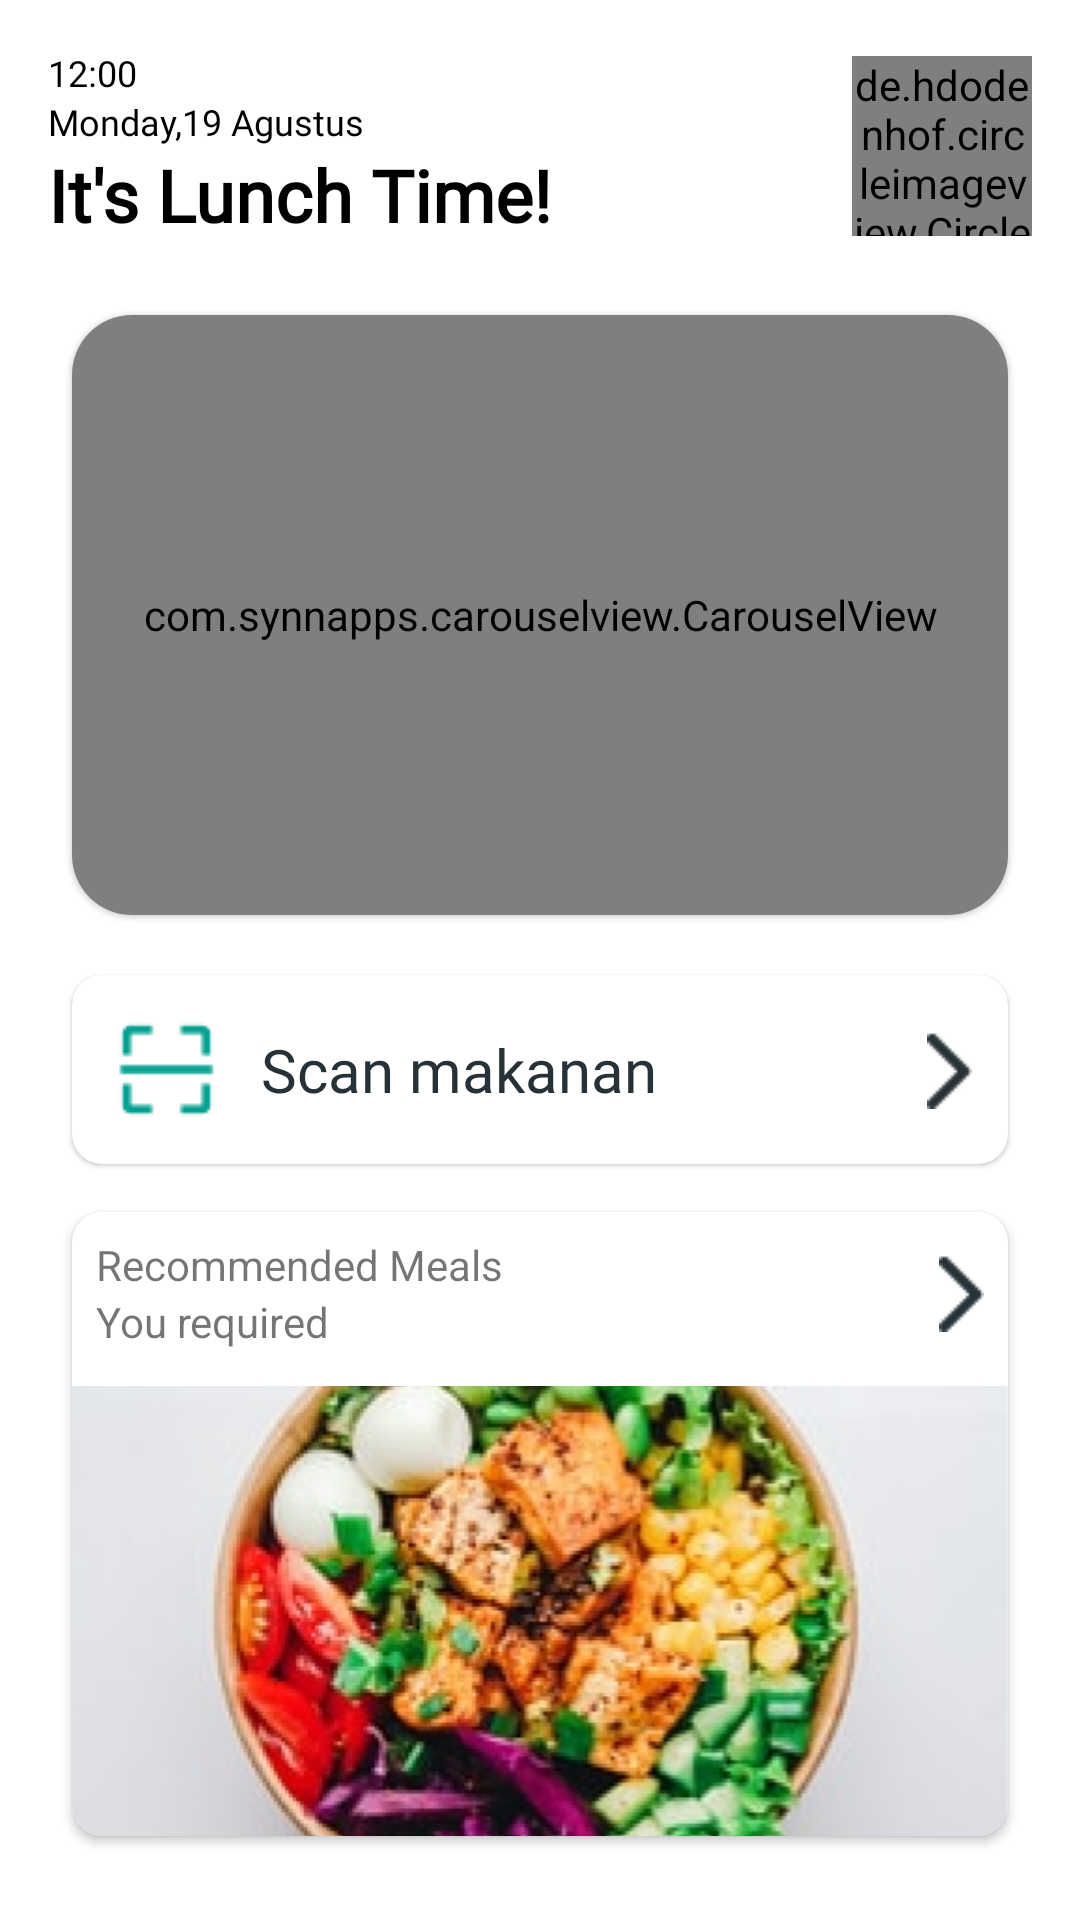

Point at icon controls on the screen. Image size 1080x1920, points as (x,y).
next: (949,1071), (961,1294)
